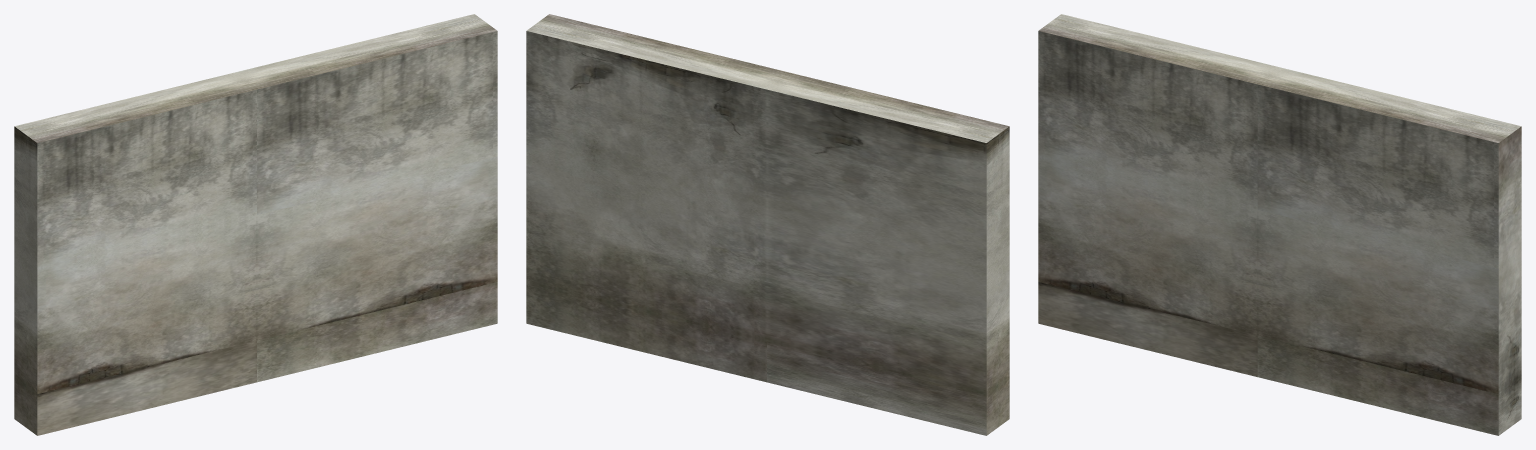
Rendered from english_wall_no_col_60.fbx.
3 renders of one model, left to right at view 1: azimuth 30°, elevation 25°; view 2: azimuth 150°, elevation 25°; view 3: azimuth 330°, elevation 25°, orthographic.
Visible parts, largest first — view 1: lod_high; view 2: lod_high; view 3: lod_high.
Boxes of the visible parts, bbox=[...] form: lod_high: bbox=[14, 14, 497, 435]; lod_high: bbox=[526, 14, 1009, 435]; lod_high: bbox=[1038, 14, 1521, 435].
Size of the model in its own units: 5760 by 3502 by 500.
Materials: 1 (1 with a texture image).
